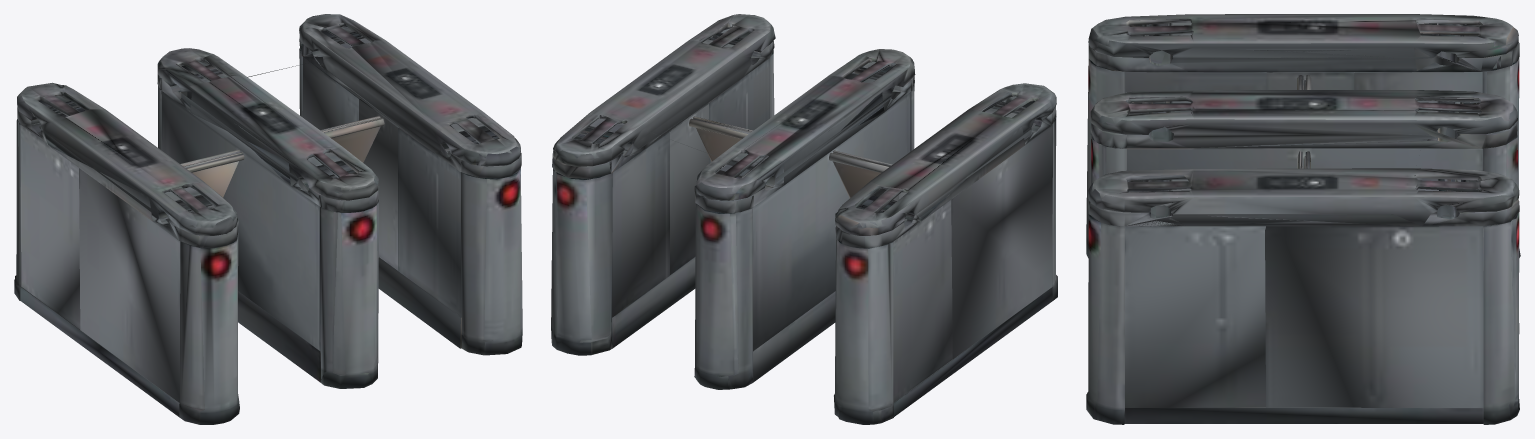
Rendered from turnstile.glb.
3 renders of one model, left to right at view 1: azimuth 30°, elevation 25°; view 2: azimuth 150°, elevation 25°; view 3: azimuth 270°, elevation 25°, orthographic. The views are drawn at different scales.
Size of the model in its own units: 0.9473 by 0.5415 by 0.9356.
1 material, 1 textured.
